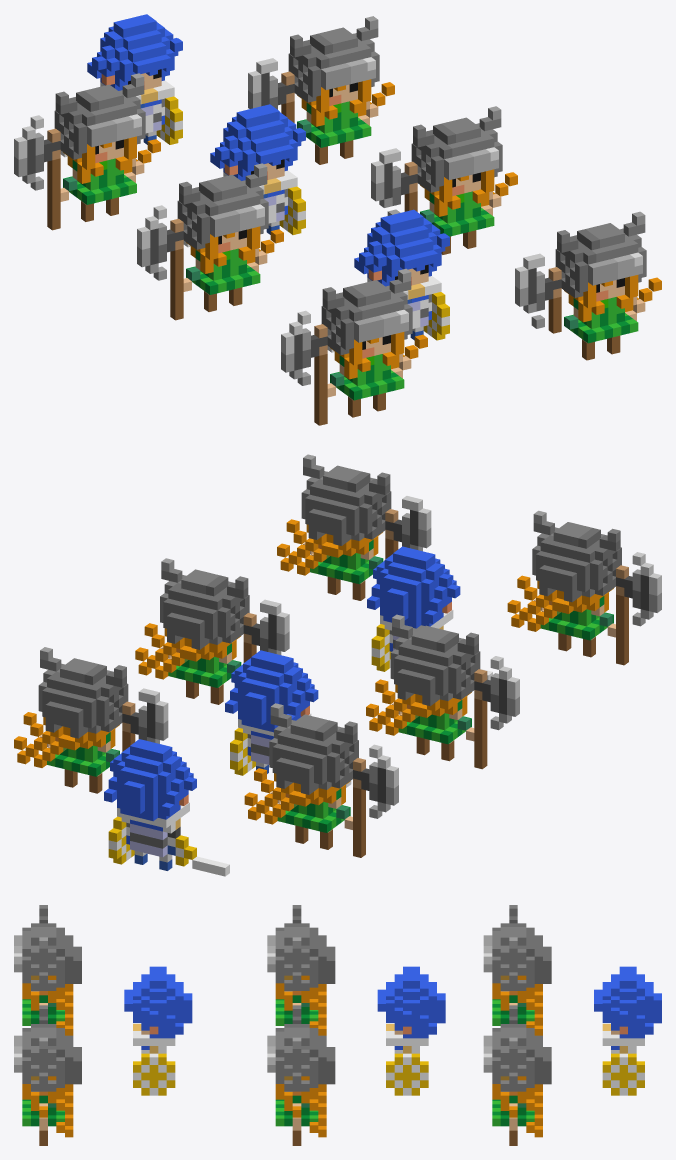
3 renders of one model, top to bottom at view 1: azimuth 30°, elevation 25°; view 2: azimuth 150°, elevation 25°; view 3: azimuth 270°, elevation 25°, orthographic. The views are drawn at different scales.
Parts seen in each view (by area): view 1: model.vox.004, model.vox.005, model.vox; view 2: model.vox, model.vox.005, model.vox.004; view 3: model.vox.005, model.vox.004, model.vox.
Part boxes in pixels (box(x1,y1,x2,y2)): model.vox.004: box(281, 209, 661, 425); model.vox.005: box(137, 104, 517, 320); model.vox: box(14, 14, 394, 230); model.vox: box(14, 647, 398, 876); model.vox.005: box(135, 558, 519, 787); model.vox.004: box(277, 454, 661, 680); model.vox.005: box(267, 905, 445, 1145); model.vox.004: box(14, 905, 192, 1145); model.vox: box(483, 905, 661, 1145).
Bounding box in the file's own units: 4.5 × 1.5 × 7.63.
6 materials, 6 textured.
